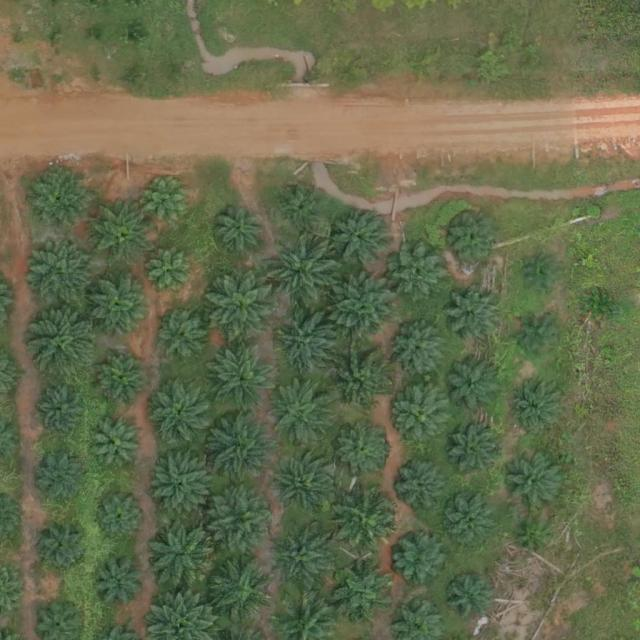Healthy: (269, 229, 347, 307), (32, 307, 103, 378), (29, 240, 99, 311), (208, 269, 278, 340), (211, 344, 282, 414), (207, 412, 278, 482), (207, 486, 277, 557), (147, 522, 217, 593), (29, 169, 92, 232), (90, 201, 153, 264), (272, 383, 335, 446), (272, 458, 335, 521), (337, 489, 400, 552), (274, 527, 337, 590), (334, 564, 397, 627), (209, 559, 272, 622), (90, 276, 153, 338), (151, 380, 213, 443), (279, 311, 341, 374), (334, 277, 396, 340), (329, 349, 391, 412), (153, 452, 215, 514), (213, 204, 268, 260), (334, 213, 389, 268), (335, 423, 390, 478), (392, 325, 447, 380), (395, 388, 450, 443), (395, 458, 450, 513), (394, 533, 449, 588), (447, 289, 502, 344), (442, 497, 497, 552), (509, 380, 564, 435), (509, 454, 564, 509), (391, 247, 445, 302), (446, 359, 500, 414), (446, 423, 500, 478), (41, 386, 88, 434), (40, 457, 87, 505), (99, 357, 146, 404), (96, 422, 143, 469), (162, 315, 209, 362)
Small: (143, 175, 198, 230), (95, 491, 150, 546), (38, 519, 93, 574), (92, 558, 146, 613), (147, 248, 194, 295), (451, 213, 498, 260), (448, 575, 495, 622), (520, 317, 559, 356), (284, 190, 323, 229), (583, 288, 622, 327), (518, 523, 549, 555), (526, 261, 557, 292)
